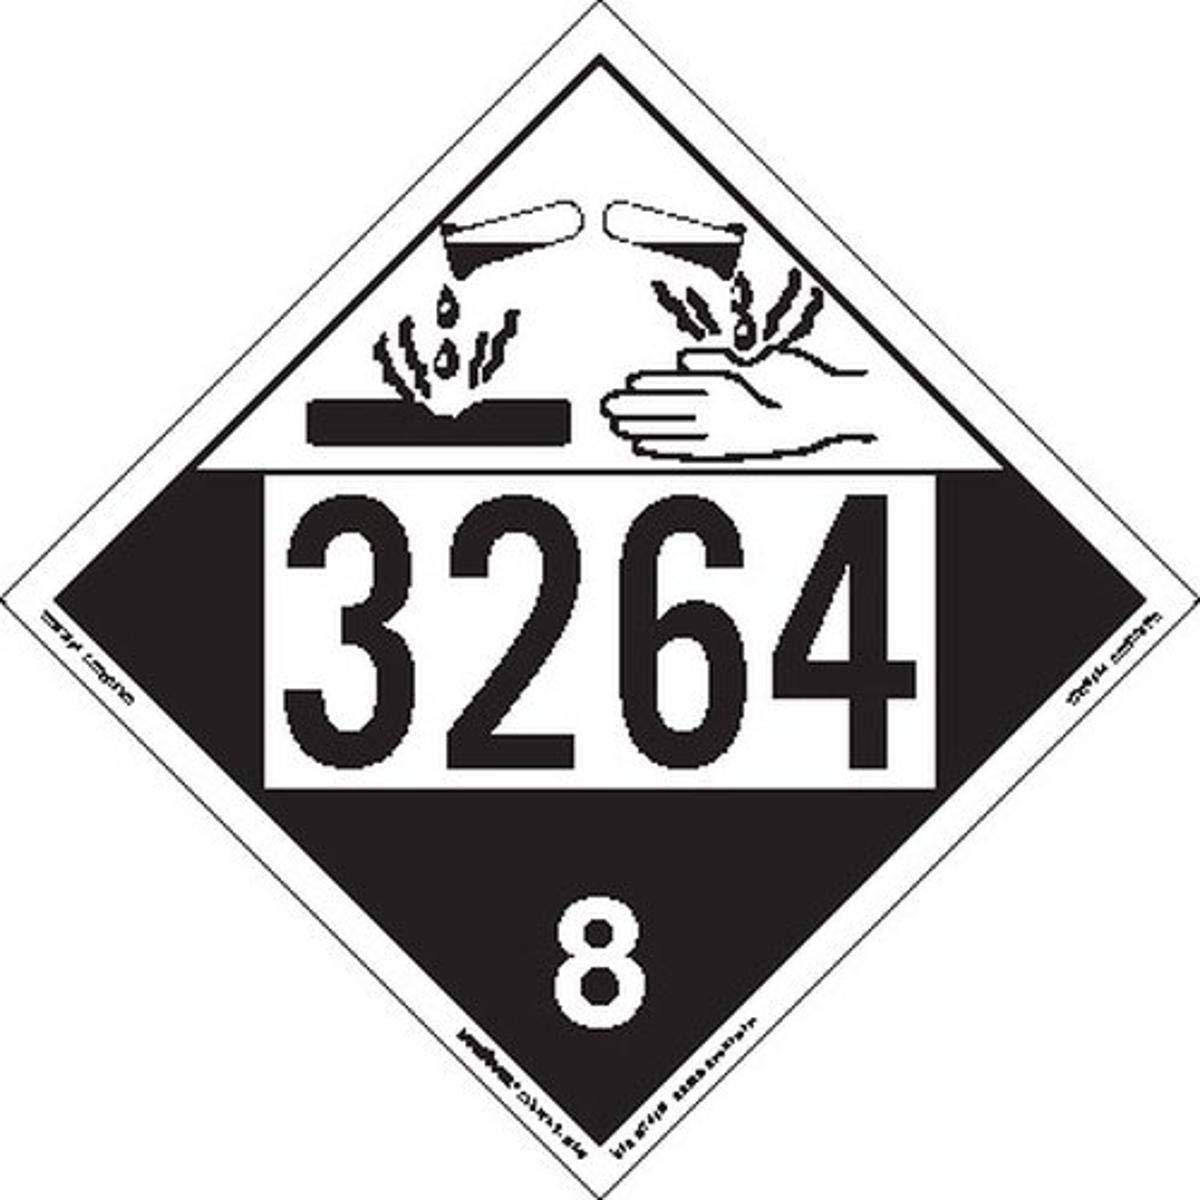Corrosive: (1, 1, 1200, 1200)
